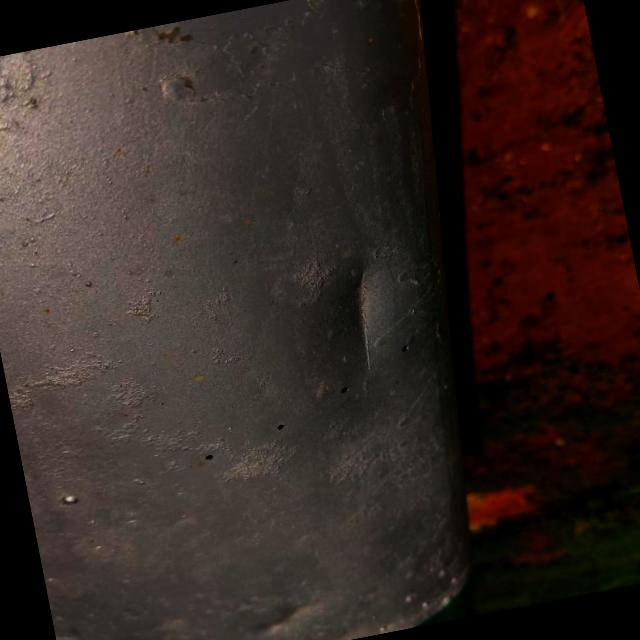dent: (290, 230, 441, 407), (221, 564, 343, 640)
